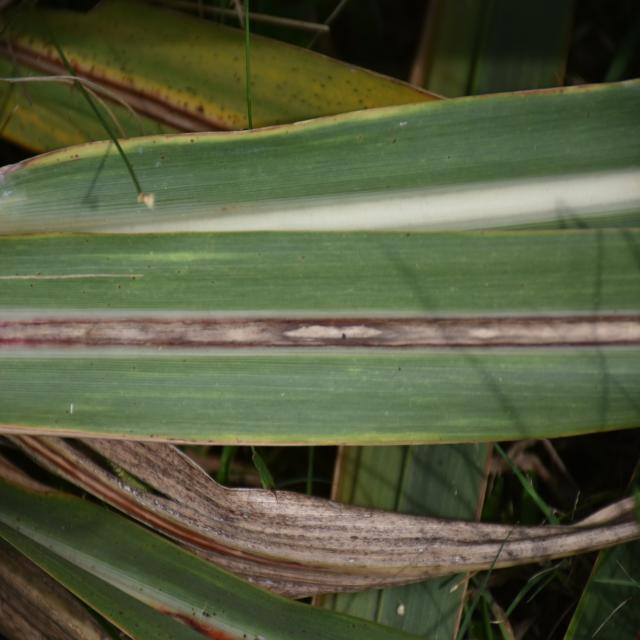Sugarcane: (0, 74, 640, 436), (0, 455, 439, 640), (0, 1, 426, 157), (2, 344, 637, 436)
